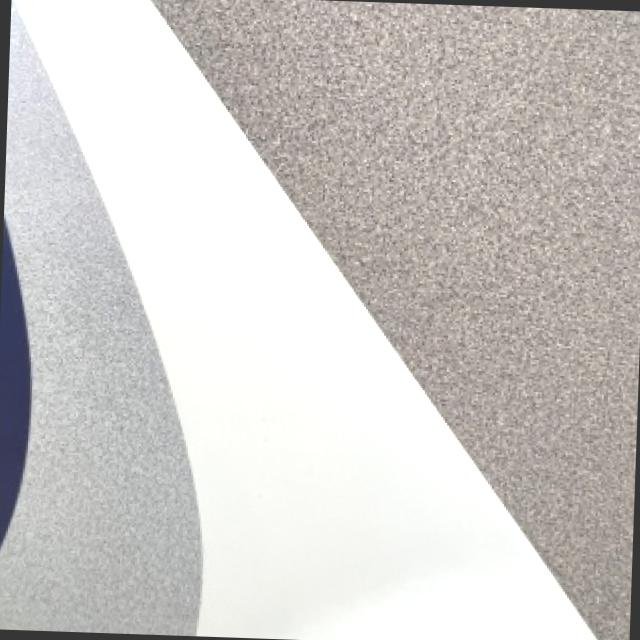healthy: (11, 0, 592, 640)
